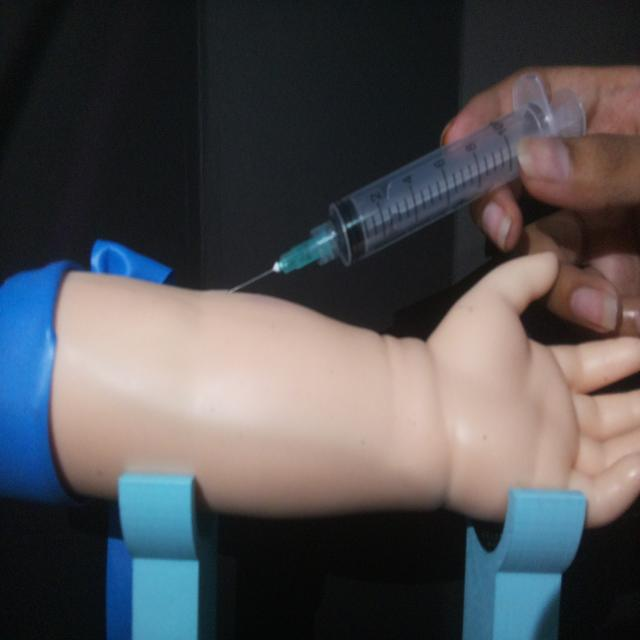22deg: (222, 69, 588, 298)
